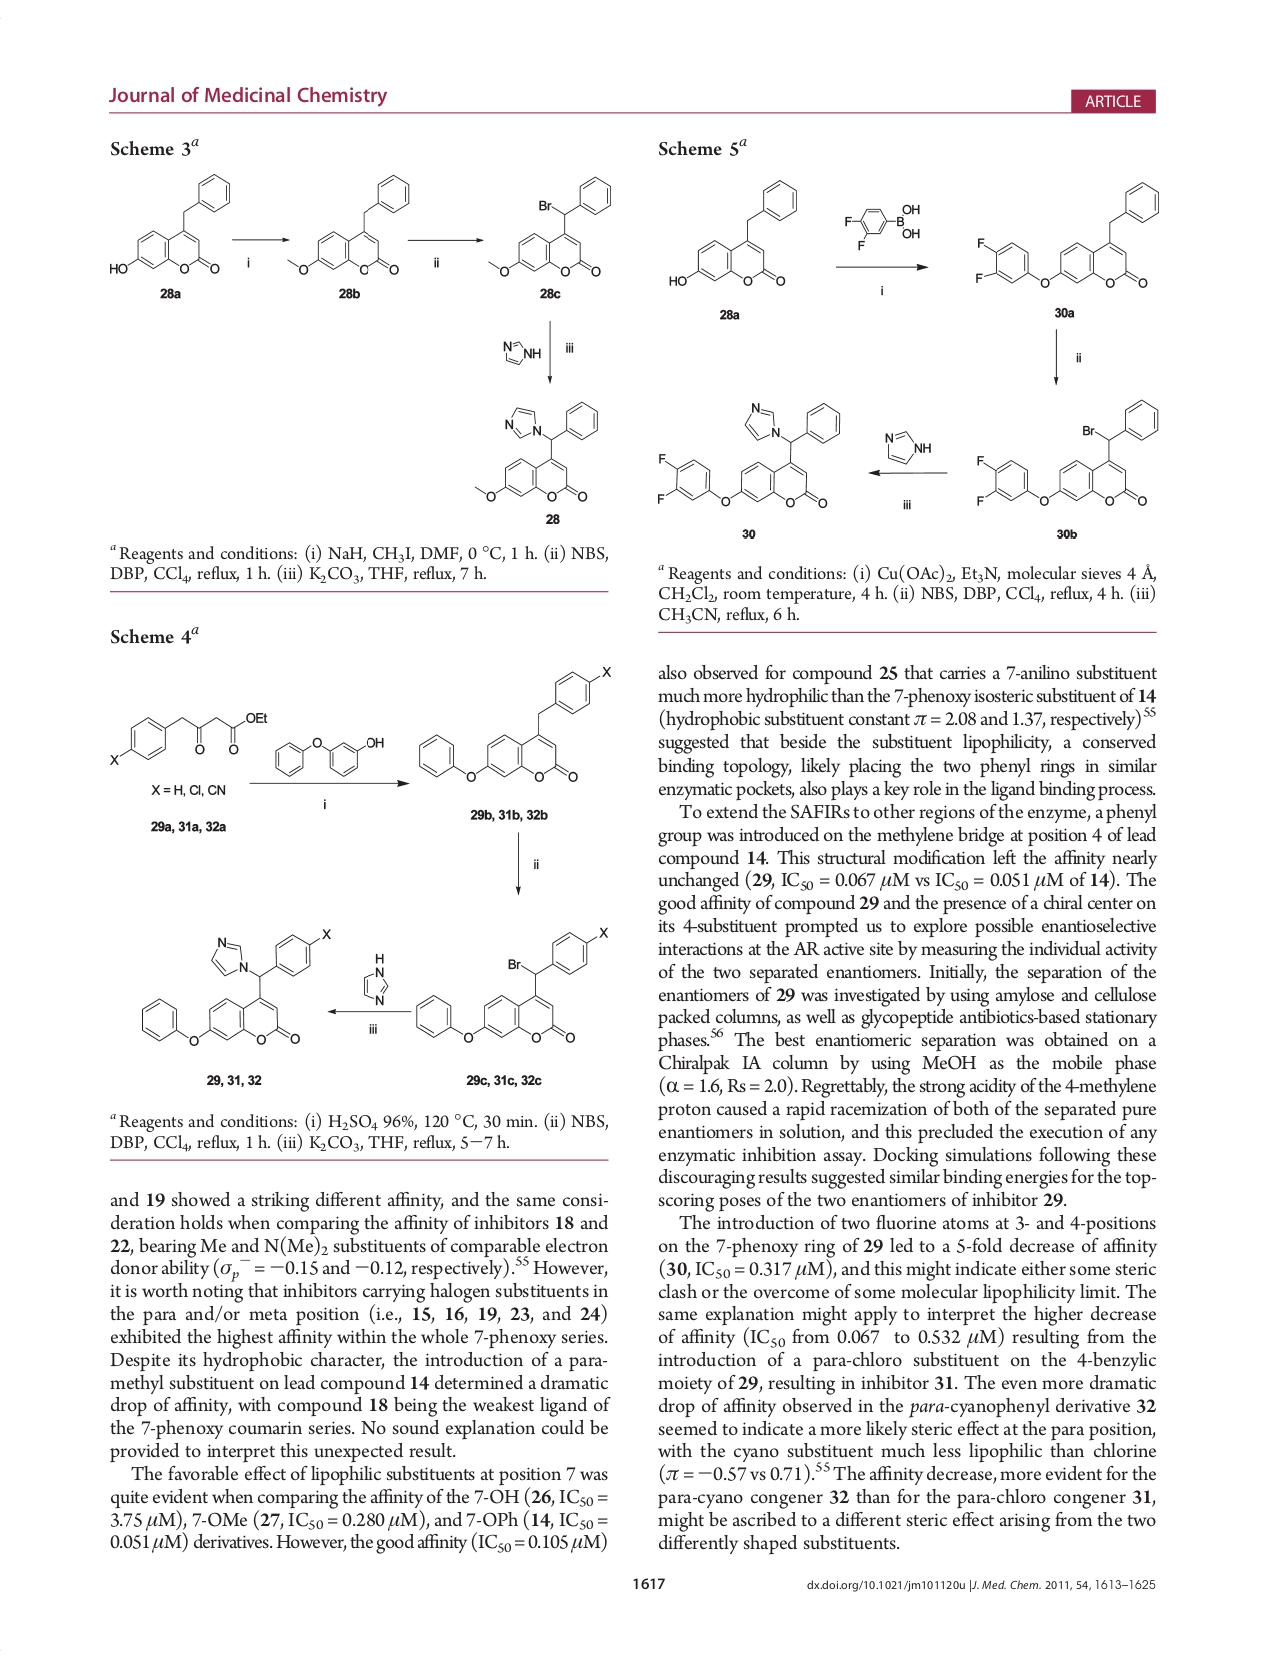exist_molecular: (137, 922, 332, 1049), (416, 661, 613, 787), (414, 923, 613, 1047), (969, 394, 1162, 515), (652, 396, 844, 513), (971, 180, 1165, 295), (664, 178, 801, 297), (483, 173, 617, 285), (285, 169, 415, 281), (469, 400, 602, 507), (105, 170, 231, 282), (105, 709, 269, 770), (271, 730, 387, 781), (836, 198, 926, 254), (350, 942, 394, 1005), (875, 423, 934, 467)
